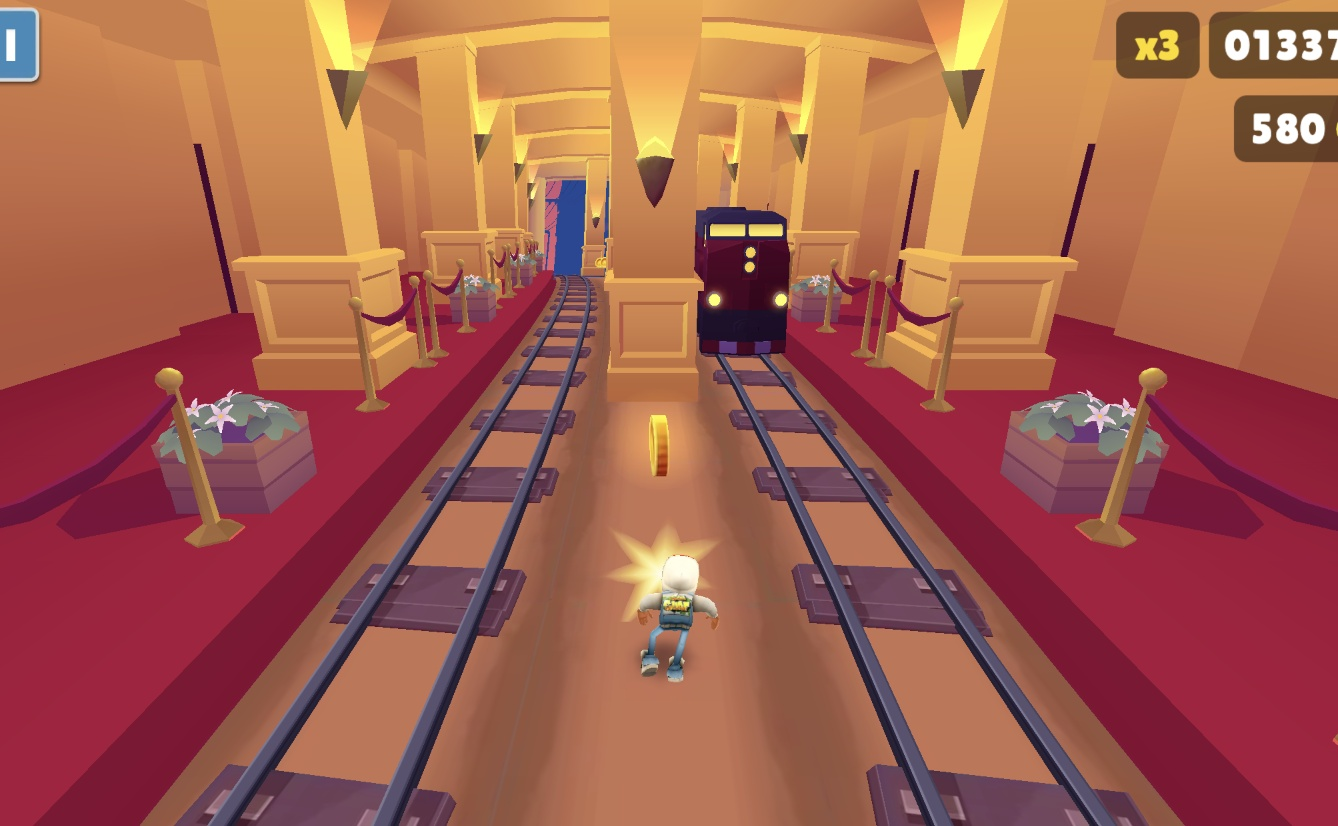pillar: (604, 0, 699, 407)
train: (694, 212, 794, 364)
